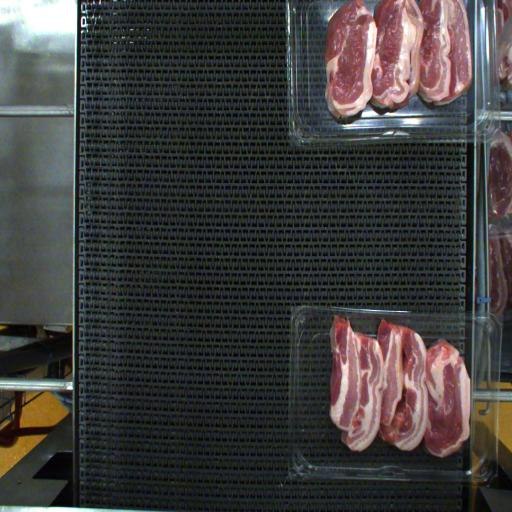packaging-error: (322, 299, 428, 336)
